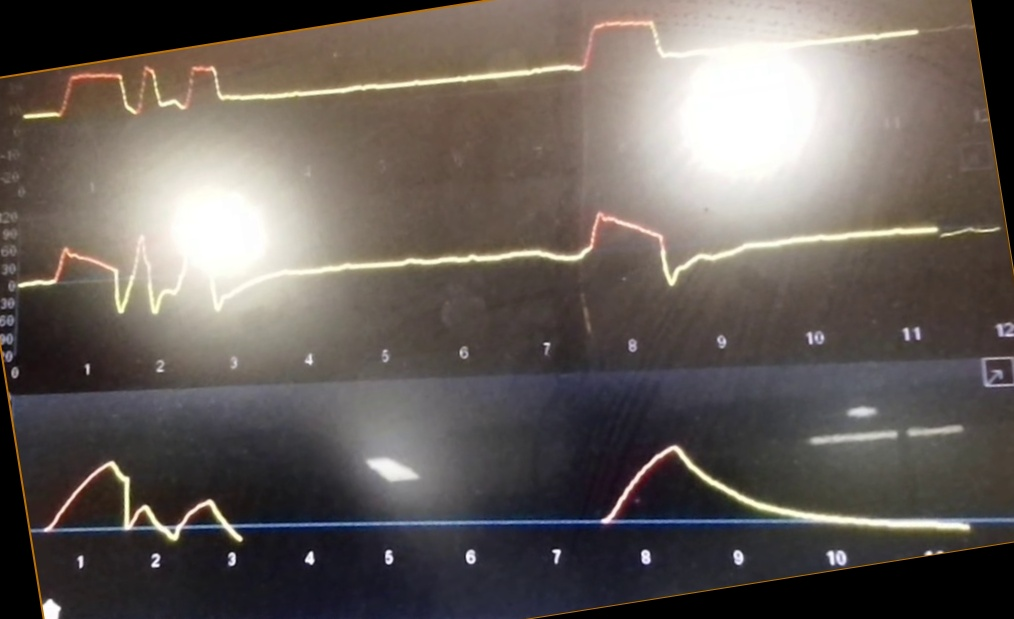Double_Triggering Flow: (24, 189, 944, 326)
Double_Triggering Volume: (38, 442, 969, 545)
